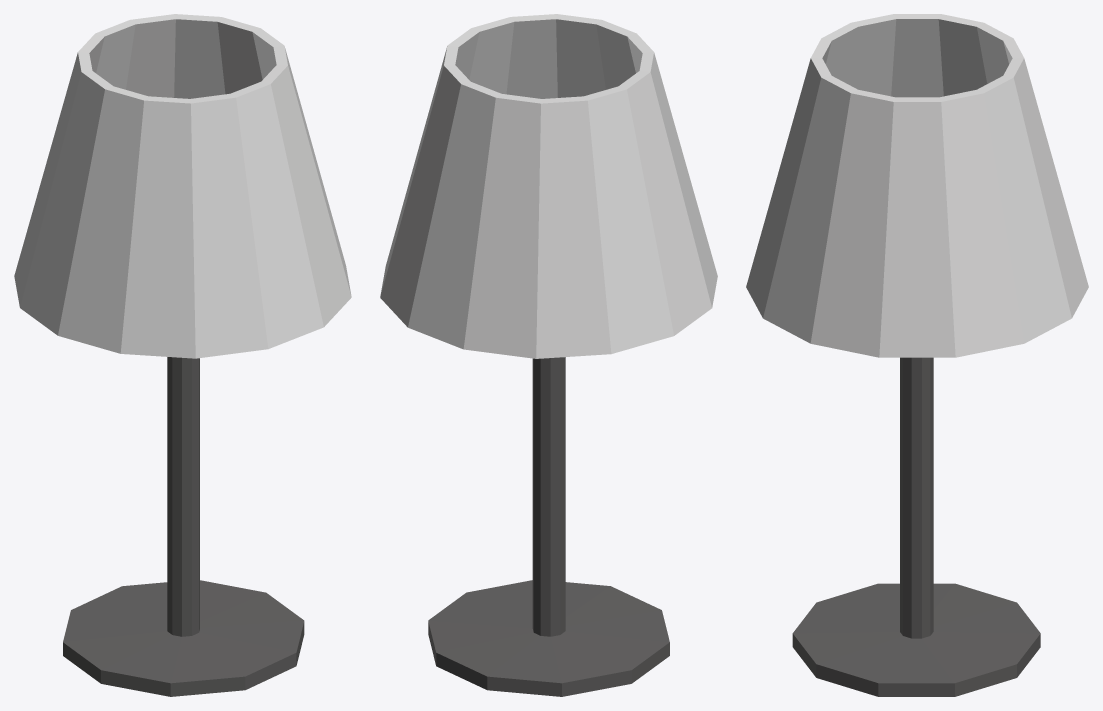
The model's file is FurnAcc_BedLamp.fbx.
3 renders of one model, left to right at view 1: azimuth 30°, elevation 25°; view 2: azimuth 150°, elevation 25°; view 3: azimuth 270°, elevation 25°, orthographic.
Parts seen in each view (by area): view 1: FurnAcc_BedLamp; view 2: FurnAcc_BedLamp; view 3: FurnAcc_BedLamp.
Part boxes in pixels (x1=…): FurnAcc_BedLamp: x1=14, y1=14, x2=351, y2=696; FurnAcc_BedLamp: x1=380, y1=14, x2=717, y2=696; FurnAcc_BedLamp: x1=746, y1=14, x2=1088, y2=696.
Bounding box in the file's own units: 32.68 × 63.52 × 33.52.
